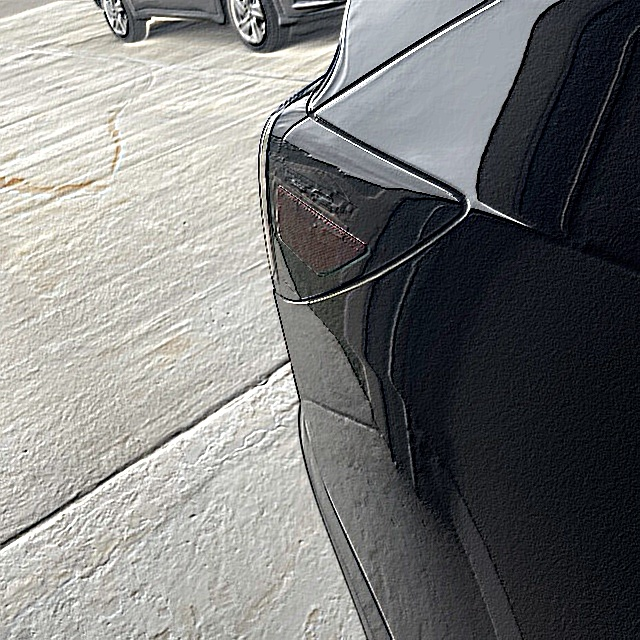reflector: (276, 186, 368, 276)
